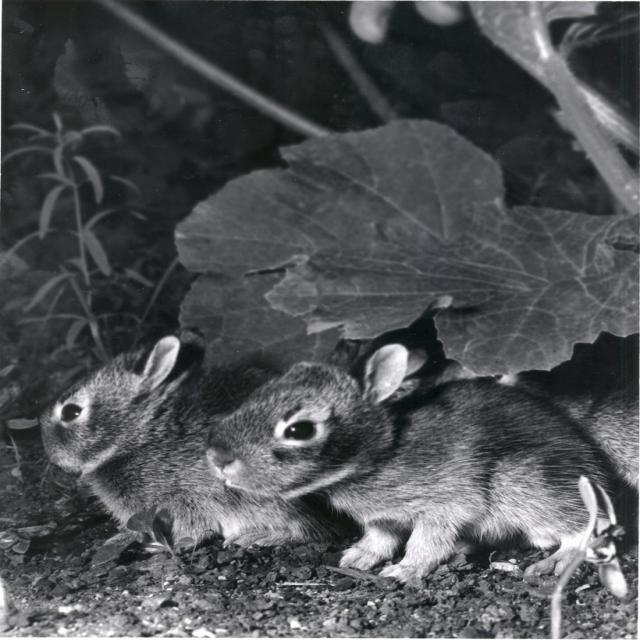rat: (205, 347, 632, 583), (3, 334, 336, 560)
